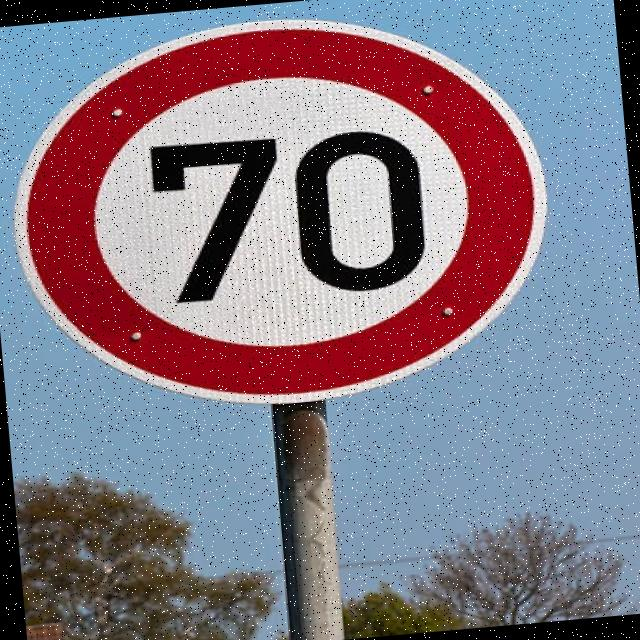speed_limit_70: (0, 0, 569, 425)
